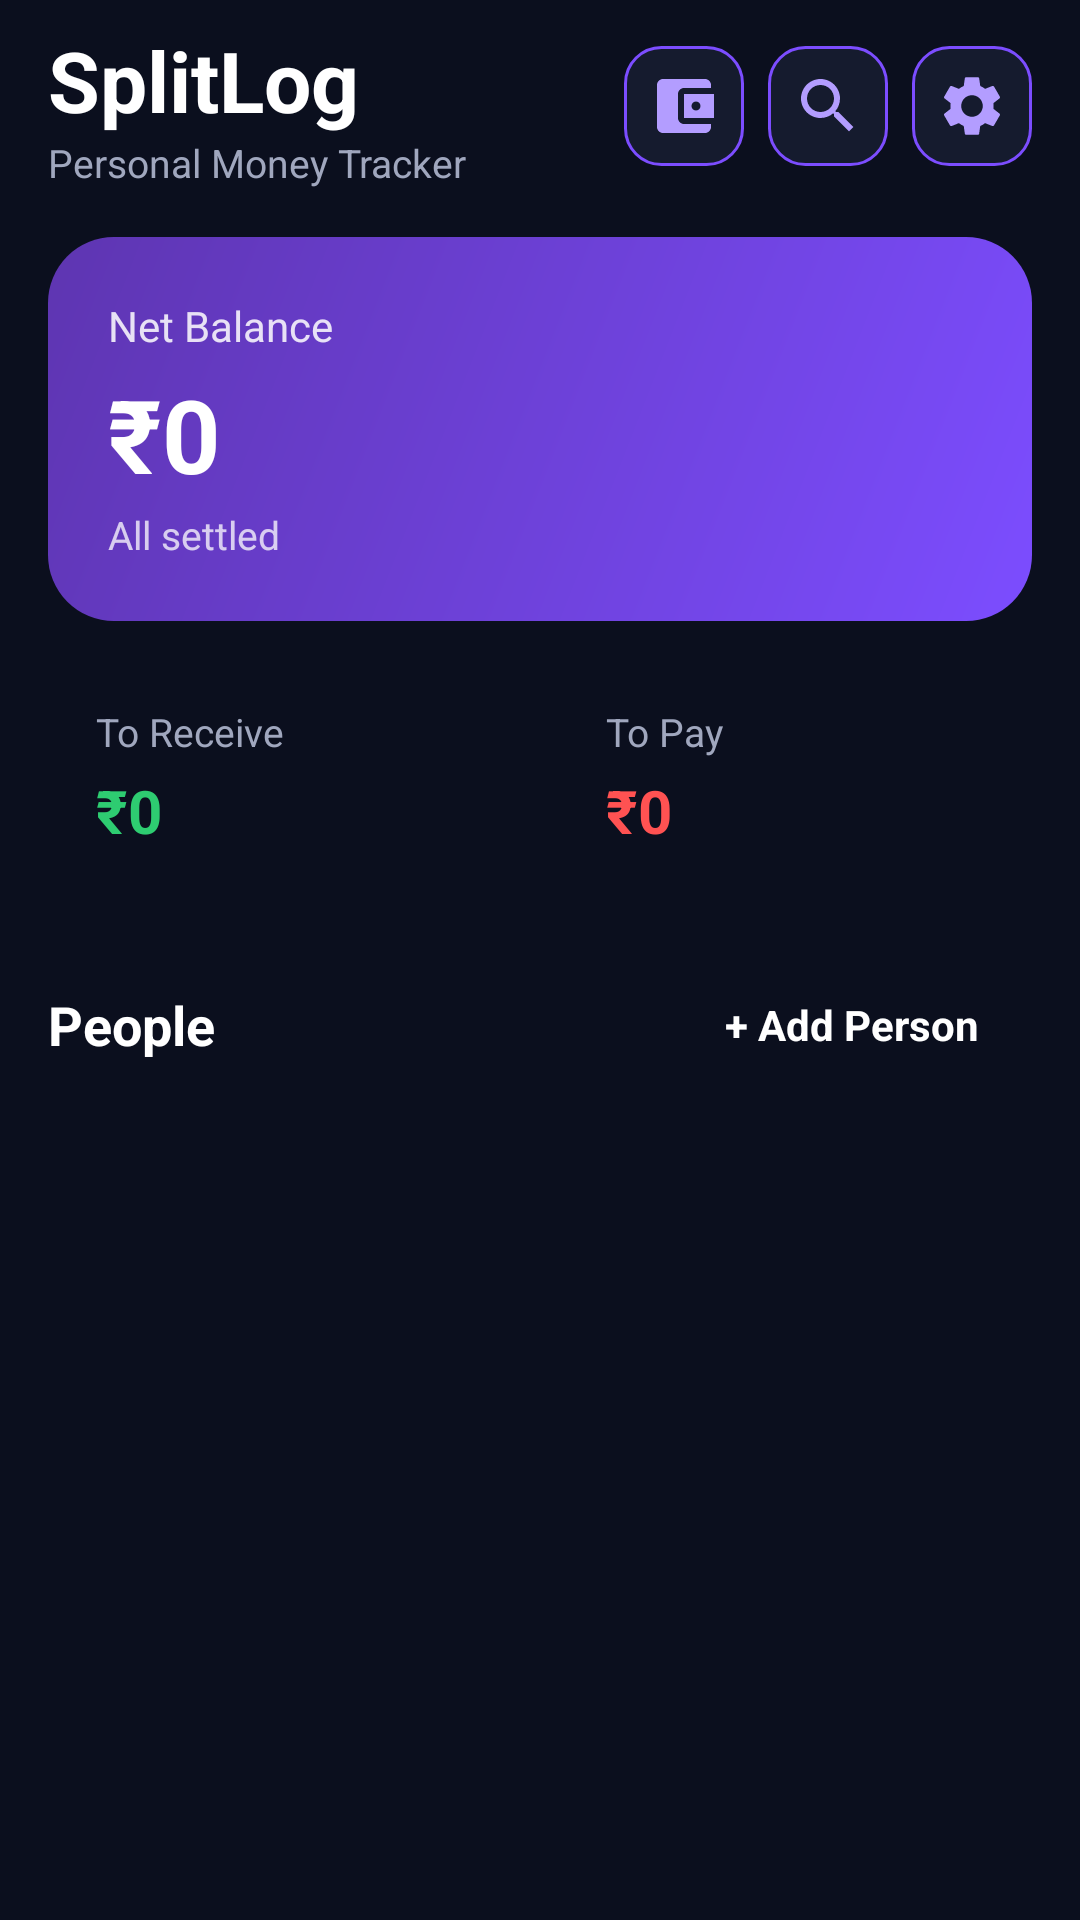

Point at icon controls on the screen. Image size 1080×1920, points as point (x, y).
My Expenses: point (684, 106)
Search people: point (828, 106)
Settings: point (972, 106)
